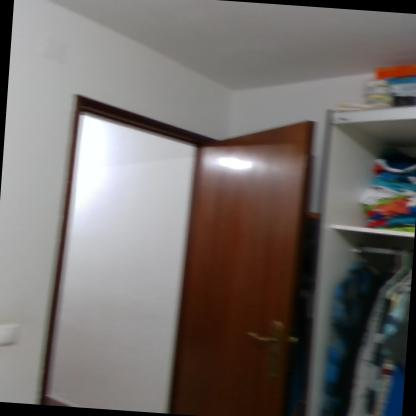open: (38, 80, 336, 415)
